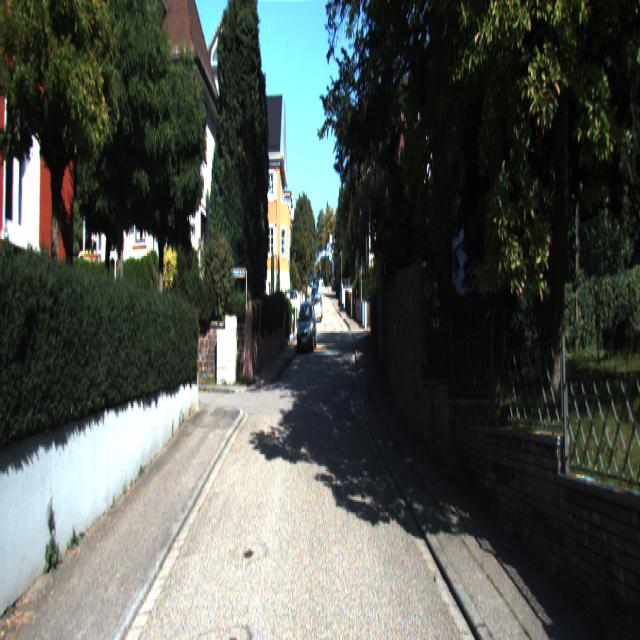Car: (296, 305, 318, 355)
